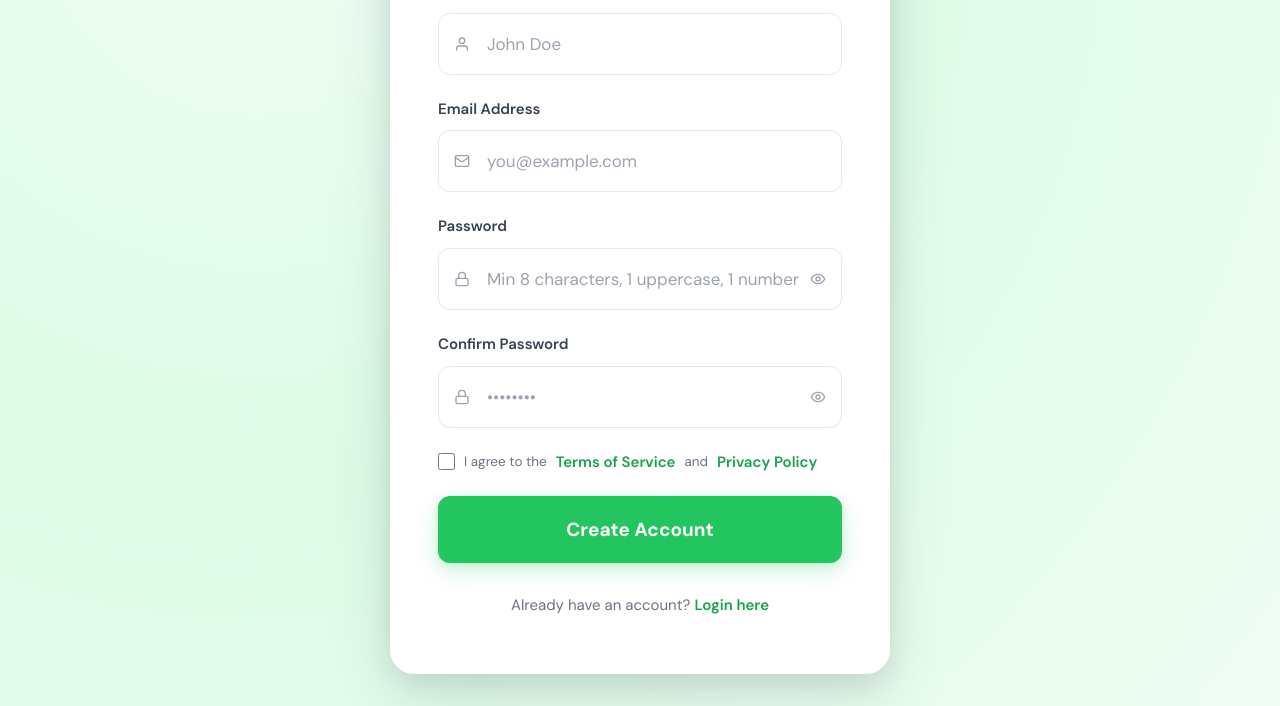
RegisterPage › opens Privacy Policy modal
This screenshot has width=1280, height=706.
(page scrolled)
Click the text "Privacy Policy": x=767, y=462 left=717, top=450, right=817, bottom=474
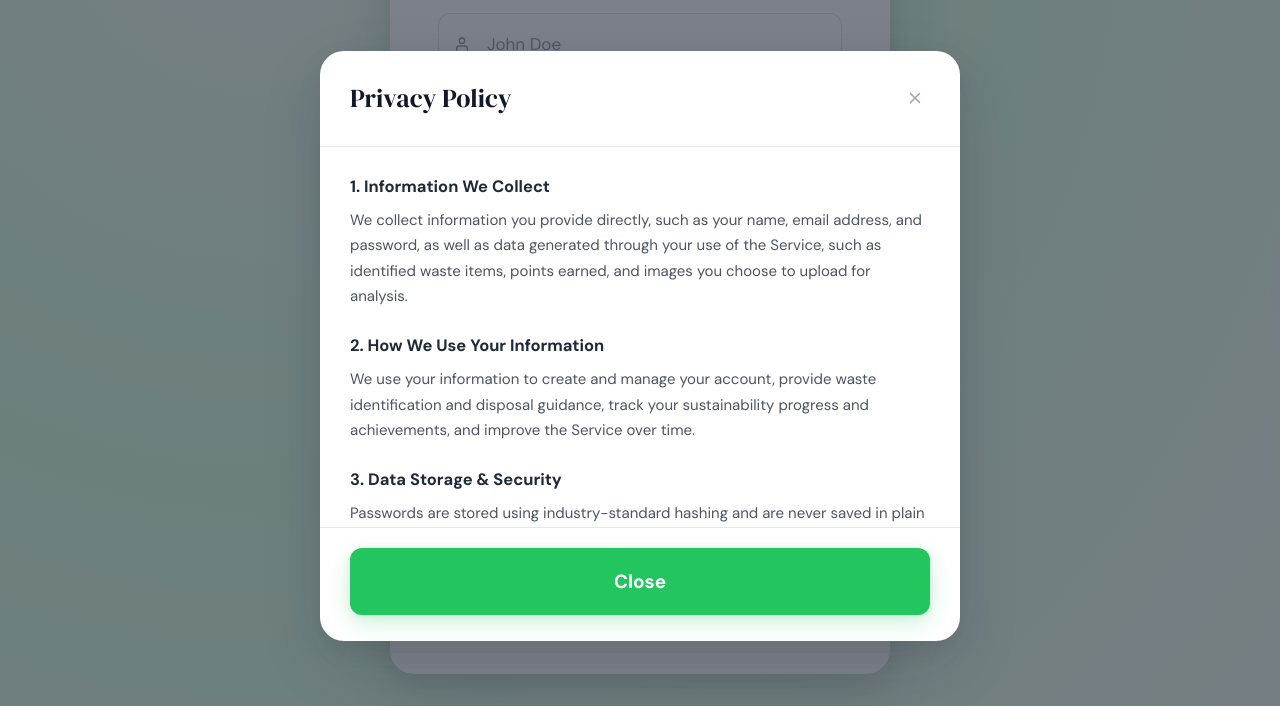
Now the dialog "Privacy Policy" is shown, box left=320, top=51, right=960, bottom=641
